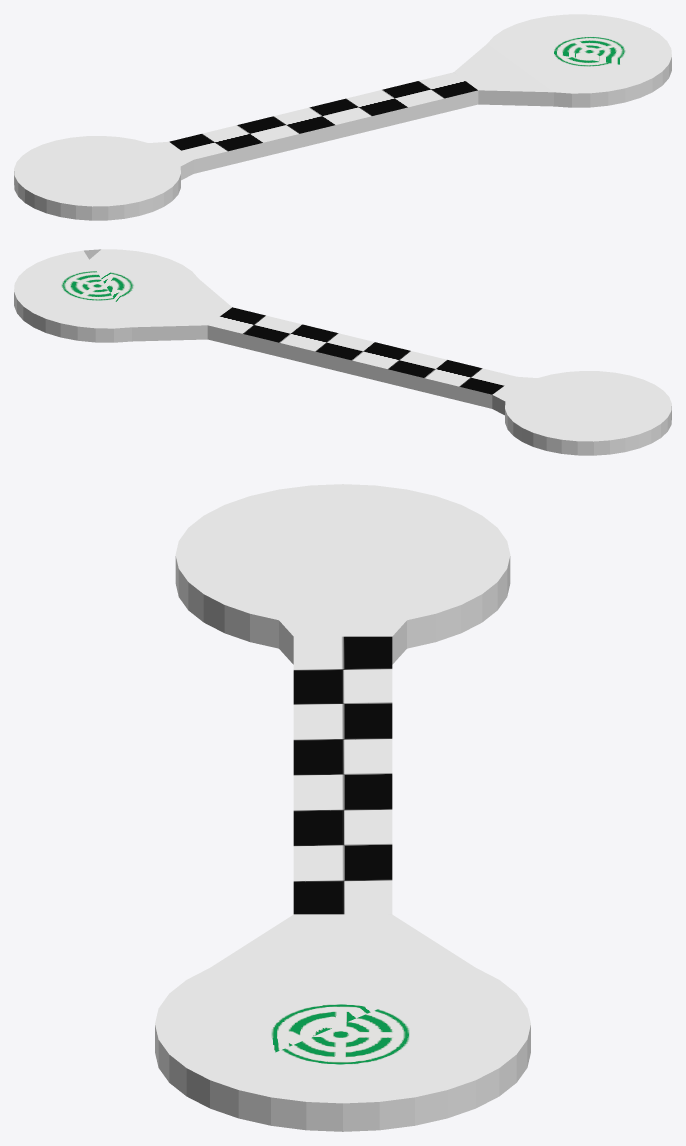
The model's file is finish.fbx.
3 renders of one model, top to bottom at view 1: azimuth 30°, elevation 25°; view 2: azimuth 150°, elevation 25°; view 3: azimuth 270°, elevation 25°, orthographic. The views are drawn at different scales.
Parts seen in each view (by area): view 1: Circle; view 2: Circle; view 3: Circle.
Part boxes in pixels (x1,y1,x2,y2): Circle: [14, 14, 671, 220]; Circle: [14, 249, 671, 455]; Circle: [155, 484, 530, 1131].
Size of the model in its own units: 2338 by 50 by 600.
